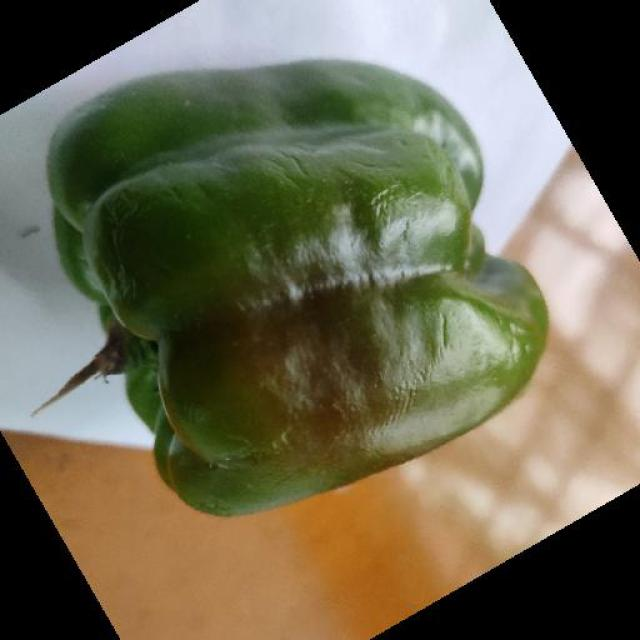Stale_Capsicum: (5, 116, 572, 476)
